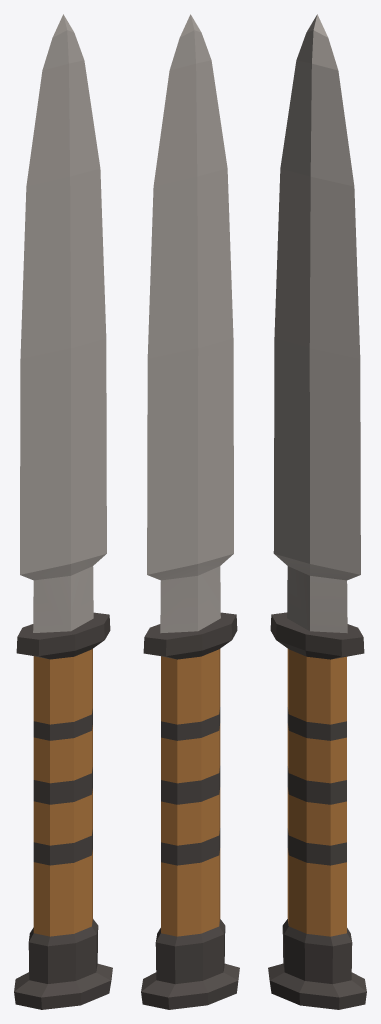
The model's file is SM_pwe_egypt_dagger_01.fbx.
3 views of the same model, side by side, from view 1: azimuth 30°, elevation 25°; view 2: azimuth 210°, elevation 25°; view 3: azimuth 330°, elevation 25° (orthographic).
Parts seen in each view (by area): view 1: SM_pwe_egypt_dagger_01; view 2: SM_pwe_egypt_dagger_01; view 3: SM_pwe_egypt_dagger_01.
Part boxes in pixels (x1=…): SM_pwe_egypt_dagger_01: x1=14, y1=14, x2=112, y2=1009; SM_pwe_egypt_dagger_01: x1=141, y1=14, x2=239, y2=1009; SM_pwe_egypt_dagger_01: x1=268, y1=14, x2=366, y2=1009.
Bounding box in the file's own units: 5.67 × 53.56 × 3.53.
